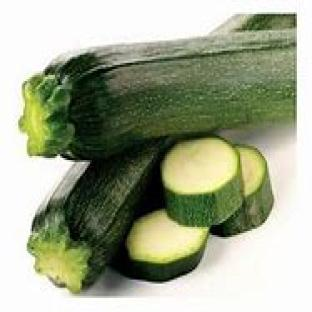Zucchini: (21, 31, 295, 158), (29, 142, 163, 291), (162, 138, 243, 226), (116, 209, 208, 281), (212, 146, 273, 237), (212, 15, 296, 34)
